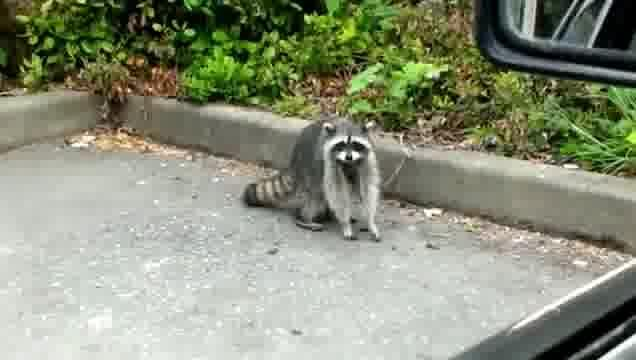raccoon: (244, 119, 383, 245)
